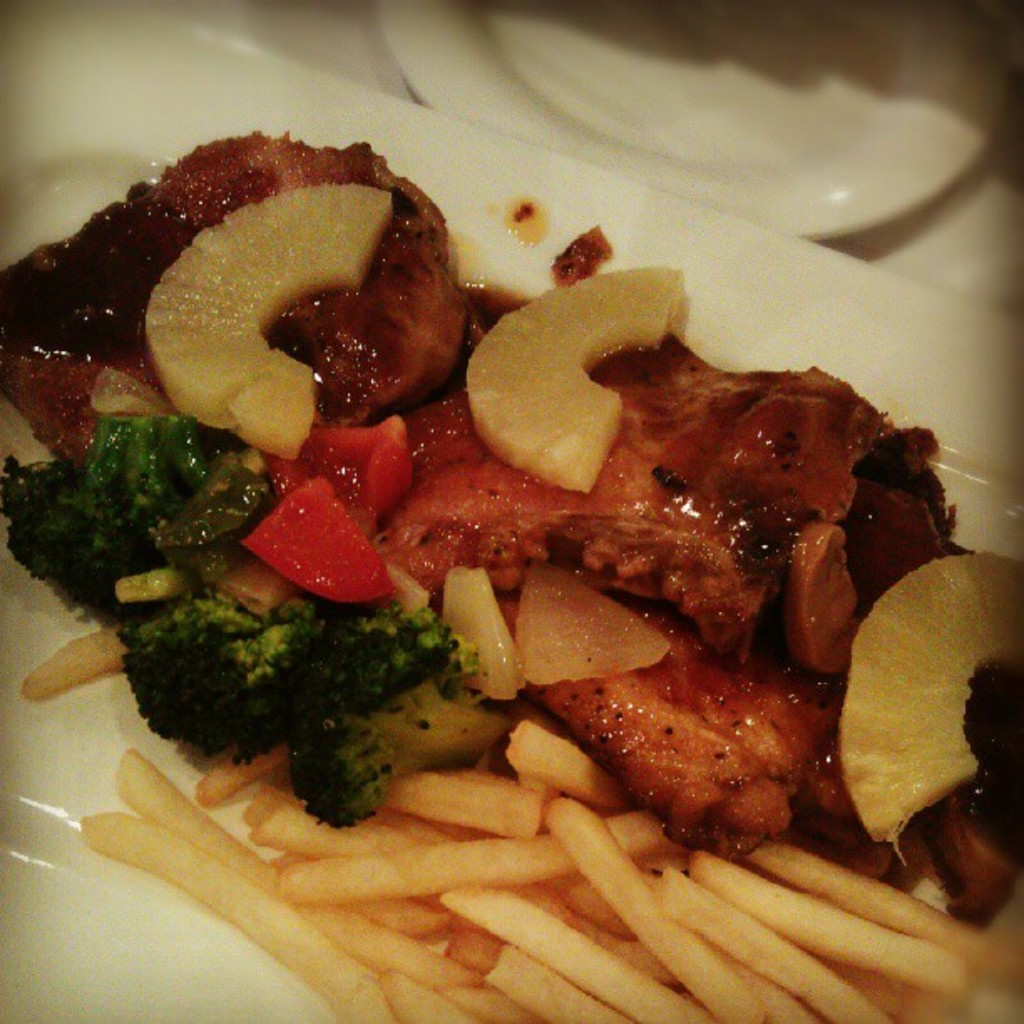French fries: (117, 684, 958, 1007)
